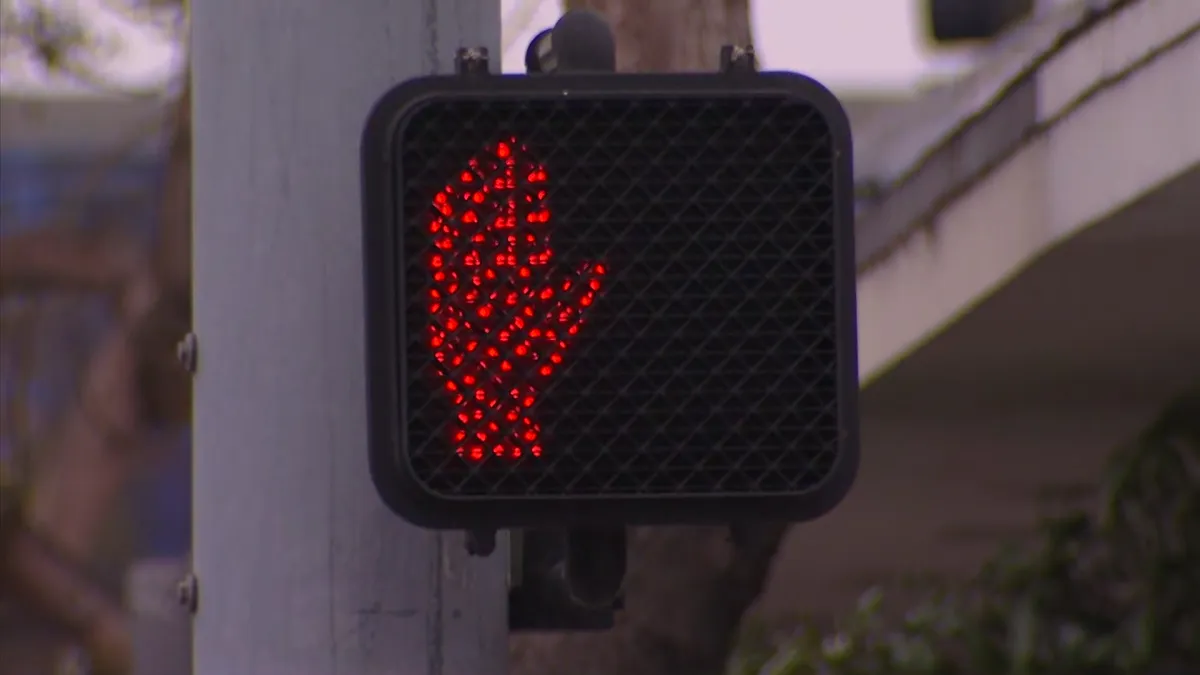ped_stop: (419, 135, 606, 460)
